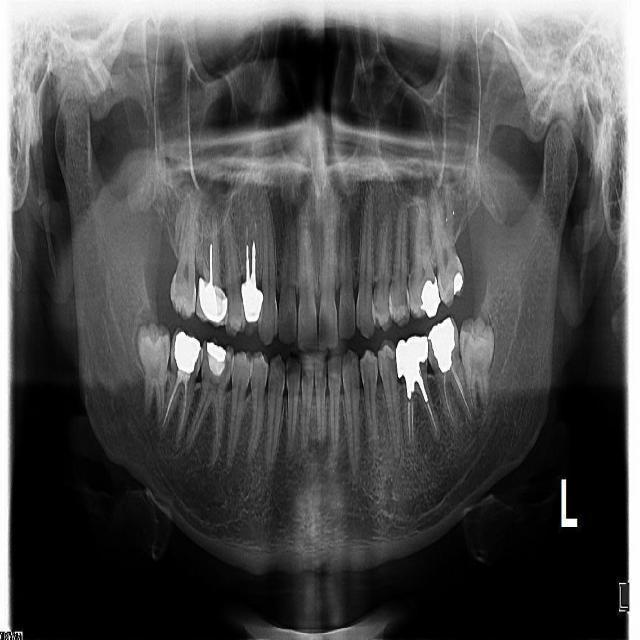Caries: (388, 352, 397, 376), (400, 289, 408, 310)
Crown: (195, 279, 228, 328), (241, 281, 263, 337)
Filling: (395, 335, 428, 403), (428, 315, 455, 372), (174, 331, 200, 374), (420, 277, 440, 318), (207, 341, 226, 376), (454, 271, 463, 293)
Root Canal Treatment: (450, 361, 472, 421), (160, 380, 180, 430), (180, 384, 188, 430), (427, 402, 437, 435), (407, 399, 410, 442), (443, 375, 447, 400), (412, 398, 414, 439)
impacted tooth: (458, 322, 496, 420), (135, 323, 170, 422)
